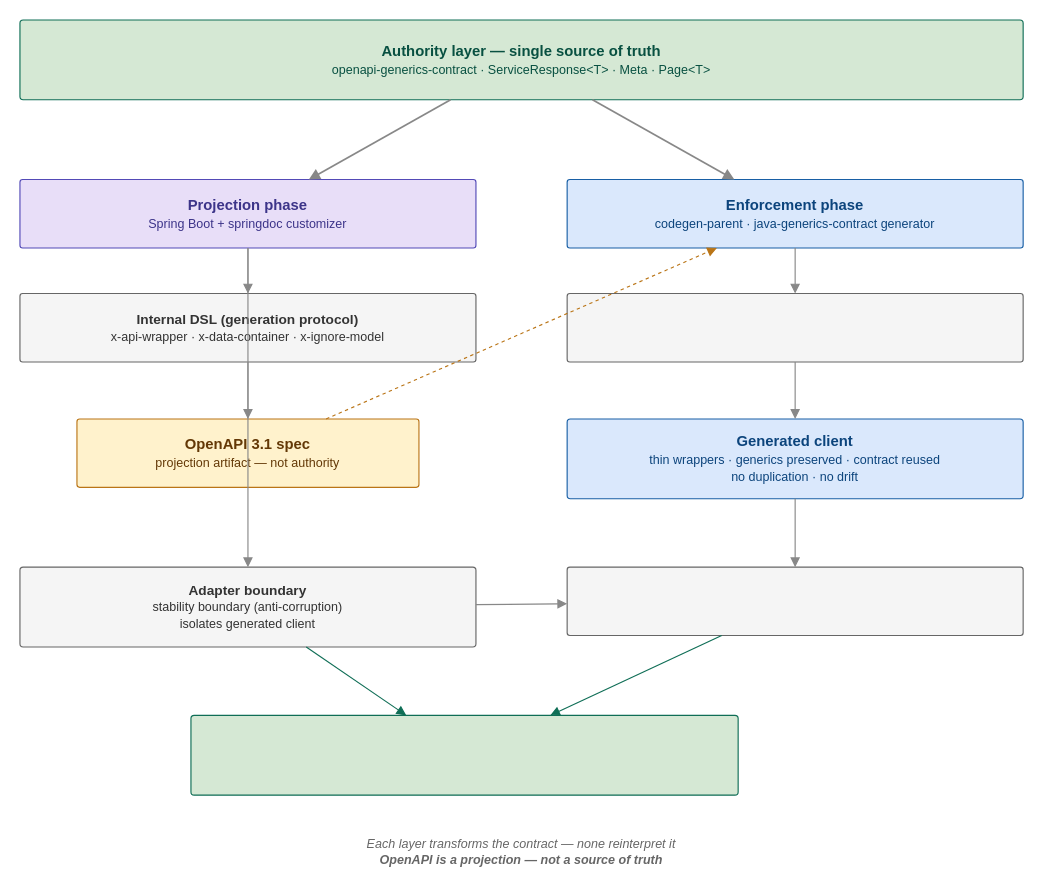
Image size: 1043x895. Some labels were removed from this diagram. The shapes that lost their labels are listed below. From the top down, each one's centre as x and y in pixels, then its label:
point (794, 327): Template pipeline extract → patch → overlay
point (794, 601): Application uses contract types only · no generator coupling
point (464, 754): { data, meta } deterministic contract output · end-to-end
